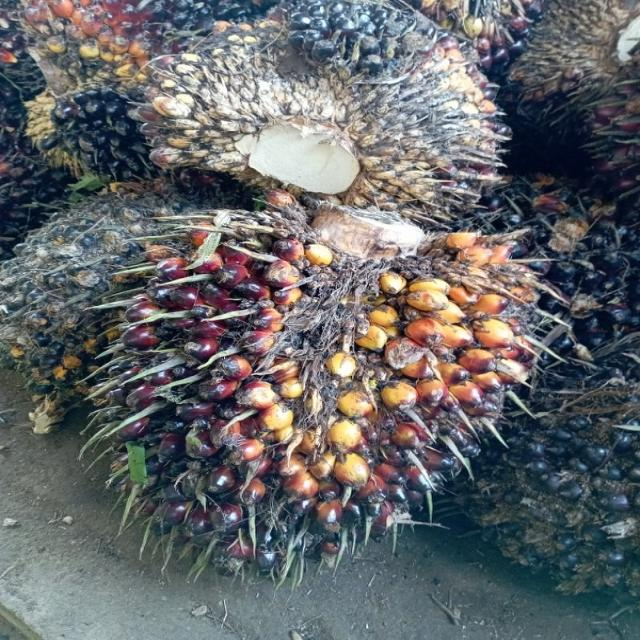fraksi 00: (104, 189, 550, 577), (125, 0, 513, 216), (472, 197, 640, 601), (15, 80, 186, 188)
